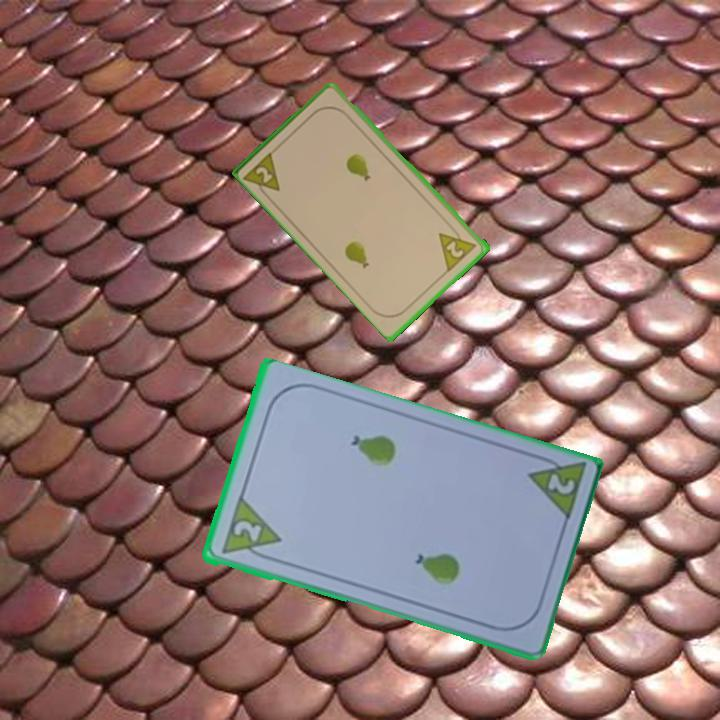2p: (522, 450, 588, 525), (217, 495, 283, 565), (435, 221, 481, 274), (252, 163, 276, 186)
